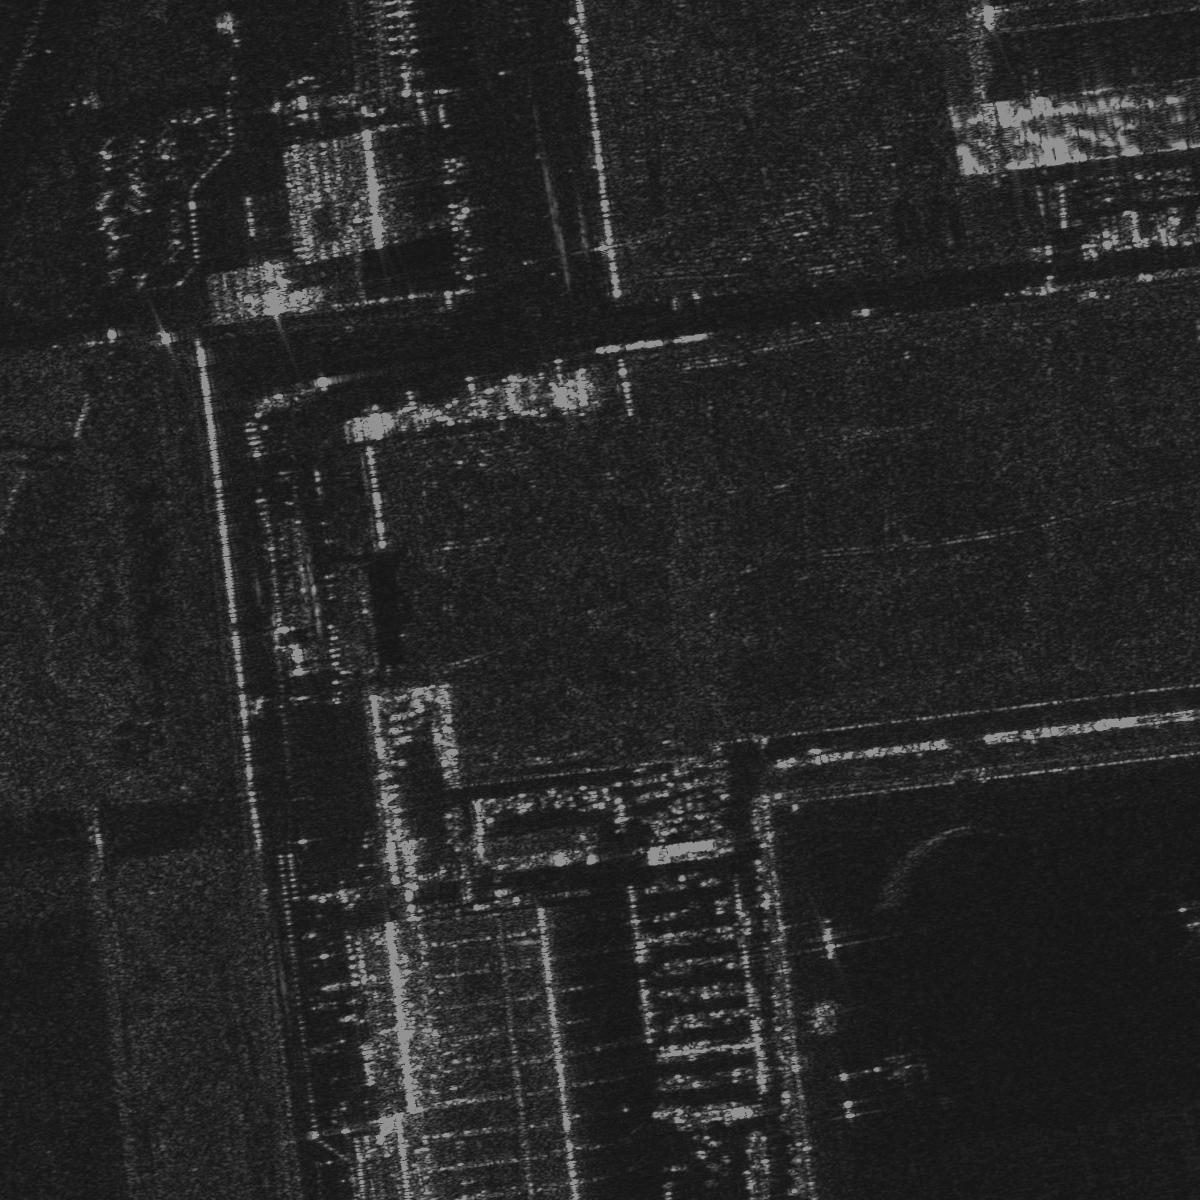A220: (1176, 908, 1199, 960)
